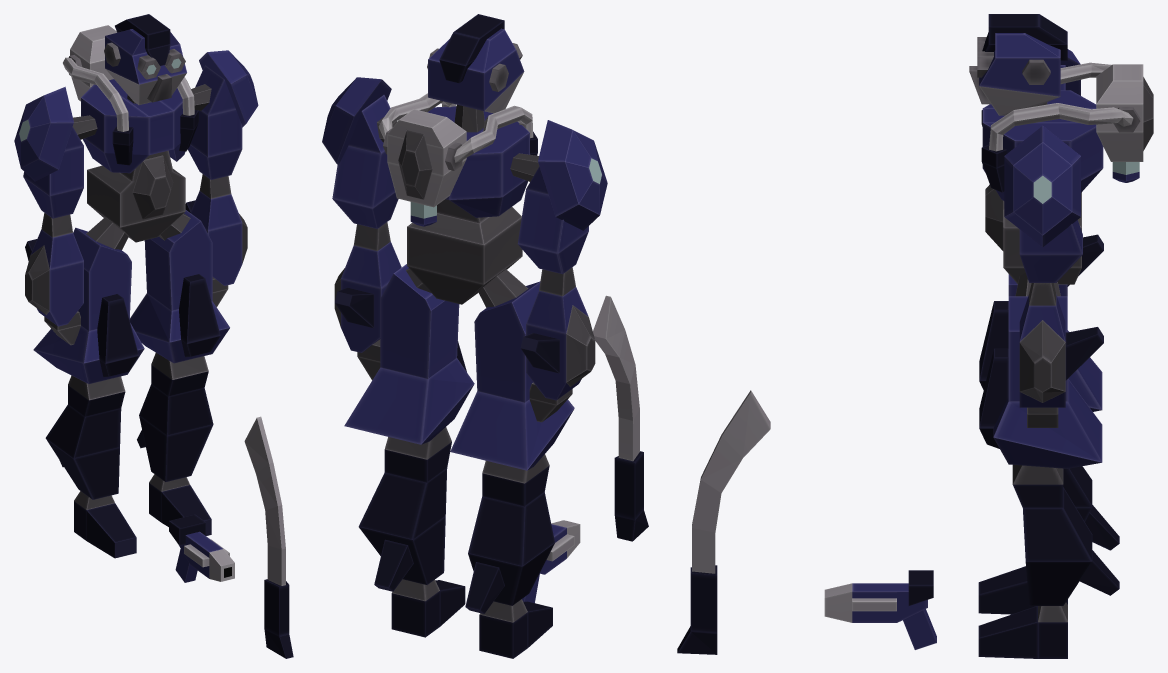
File: unit_Infantry_Special_Atreus_A.fbx
3 views of the same model, side by side, from view 1: azimuth 30°, elevation 25°; view 2: azimuth 150°, elevation 25°; view 3: azimuth 270°, elevation 25° (orthographic). The views are drawn at different scales.
Parts seen in each view (by area): view 1: unit_Infantry_Special_Atreus_A_Chest, unit_Infantry_Special_Atreus_A_Leg_L_Upper, unit_Infantry_Special_Atreus_A_Leg_R_Upper, unit_Infantry_Special_Atreus_A_Leg_L_Lower, unit_Infantry_Special_Atreus_A_Leg_R_Lower, unit_Infantry_Special_Atreus_A_Arm_R_Upper, unit_Infantry_Special_Atreus_A_Torso, unit_Infantry_Special_Atreus_A_Arm_L_Upper, unit_Infantry_Special_Atreus_A_Head, unit_Infantry_Special_Atreus_A_Arm_R_Lower, unit_Infantry_Special_Atreus_A_Sword_A, unit_Infantry_Special_Atreus_A_Arm_L_Lower (+4 smaller); view 2: unit_Infantry_Special_Atreus_A_Chest, unit_Infantry_Special_Atreus_A_Leg_L_Upper, unit_Infantry_Special_Atreus_A_Leg_R_Upper, unit_Infantry_Special_Atreus_A_Leg_L_Lower, unit_Infantry_Special_Atreus_A_Leg_R_Lower, unit_Infantry_Special_Atreus_A_Arm_R_Upper, unit_Infantry_Special_Atreus_A_Torso, unit_Infantry_Special_Atreus_A_Arm_L_Upper, unit_Infantry_Special_Atreus_A_Head, unit_Infantry_Special_Atreus_A_Arm_R_Lower, unit_Infantry_Special_Atreus_A_Sword_A, unit_Infantry_Special_Atreus_A_Arm_L_Lower (+5 smaller); view 3: unit_Infantry_Special_Atreus_A_Chest, unit_Infantry_Special_Atreus_A_Leg_L_Upper, unit_Infantry_Special_Atreus_A_Arm_L_Upper, unit_Infantry_Special_Atreus_A_Leg_L_Lower, unit_Infantry_Special_Atreus_A_Head, unit_Infantry_Special_Atreus_A_Sword_A, unit_Infantry_Special_Atreus_A_Arm_L_Lower, unit_Infantry_Special_Atreus_A_Pistol_A, unit_Infantry_Special_Atreus_A_Foot_L, unit_Infantry_Special_Atreus_A_Leg_R_Upper, unit_Infantry_Special_Atreus_A_Torso, unit_Infantry_Special_Atreus_A_Foot_R (+1 smaller).
Boxes of the visible parts, box(x1,y1,x2,y2) form: unit_Infantry_Special_Atreus_A_Chest: box(63, 25, 211, 173); unit_Infantry_Special_Atreus_A_Leg_L_Upper: box(129, 210, 229, 363); unit_Infantry_Special_Atreus_A_Leg_R_Upper: box(33, 217, 144, 383); unit_Infantry_Special_Atreus_A_Leg_L_Lower: box(137, 353, 213, 481); unit_Infantry_Special_Atreus_A_Leg_R_Lower: box(45, 375, 125, 499); unit_Infantry_Special_Atreus_A_Arm_R_Upper: box(14, 86, 83, 218); unit_Infantry_Special_Atreus_A_Torso: box(87, 150, 185, 242); unit_Infantry_Special_Atreus_A_Arm_L_Upper: box(187, 50, 258, 179); unit_Infantry_Special_Atreus_A_Head: box(104, 14, 186, 104); unit_Infantry_Special_Atreus_A_Arm_R_Lower: box(25, 213, 83, 326); unit_Infantry_Special_Atreus_A_Sword_A: box(244, 416, 293, 658); unit_Infantry_Special_Atreus_A_Arm_L_Lower: box(185, 174, 247, 285); unit_Infantry_Special_Atreus_A_Chest: box(377, 93, 539, 226); unit_Infantry_Special_Atreus_A_Leg_L_Upper: box(344, 264, 474, 444); unit_Infantry_Special_Atreus_A_Leg_R_Upper: box(450, 269, 574, 470); unit_Infantry_Special_Atreus_A_Leg_L_Lower: box(358, 427, 451, 591); unit_Infantry_Special_Atreus_A_Leg_R_Lower: box(465, 454, 554, 613); unit_Infantry_Special_Atreus_A_Arm_R_Upper: box(517, 120, 607, 274); unit_Infantry_Special_Atreus_A_Torso: box(407, 199, 522, 304); unit_Infantry_Special_Atreus_A_Arm_L_Upper: box(322, 77, 398, 228); unit_Infantry_Special_Atreus_A_Head: box(427, 14, 524, 113); unit_Infantry_Special_Atreus_A_Arm_R_Lower: box(520, 267, 595, 400); unit_Infantry_Special_Atreus_A_Sword_A: box(593, 295, 648, 541); unit_Infantry_Special_Atreus_A_Arm_L_Lower: box(334, 222, 401, 352); unit_Infantry_Special_Atreus_A_Chest: box(981, 62, 1153, 200); unit_Infantry_Special_Atreus_A_Leg_L_Upper: box(979, 272, 1102, 468); unit_Infantry_Special_Atreus_A_Arm_L_Upper: box(1004, 125, 1082, 282); unit_Infantry_Special_Atreus_A_Leg_L_Lower: box(1012, 465, 1119, 605); unit_Infantry_Special_Atreus_A_Head: box(969, 14, 1067, 115); unit_Infantry_Special_Atreus_A_Sword_A: box(677, 390, 770, 654); unit_Infantry_Special_Atreus_A_Arm_L_Lower: box(1019, 283, 1103, 407); unit_Infantry_Special_Atreus_A_Pistol_A: box(824, 570, 936, 649); unit_Infantry_Special_Atreus_A_Foot_L: box(978, 602, 1067, 658); unit_Infantry_Special_Atreus_A_Leg_R_Upper: box(979, 274, 1102, 411); unit_Infantry_Special_Atreus_A_Torso: box(985, 184, 1081, 284); unit_Infantry_Special_Atreus_A_Foot_R: box(978, 566, 1067, 614).
Size of the model in its own units: 111 by 243 by 166.
